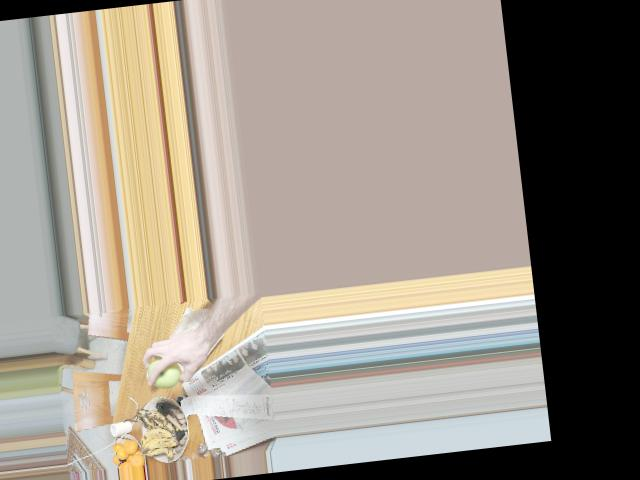apple: (148, 356, 184, 388)
